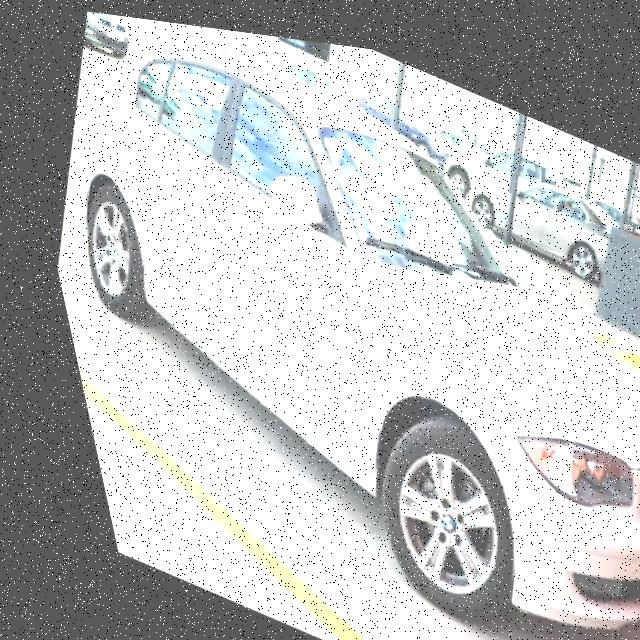license_plate: (618, 490, 640, 580), (102, 26, 124, 40)
